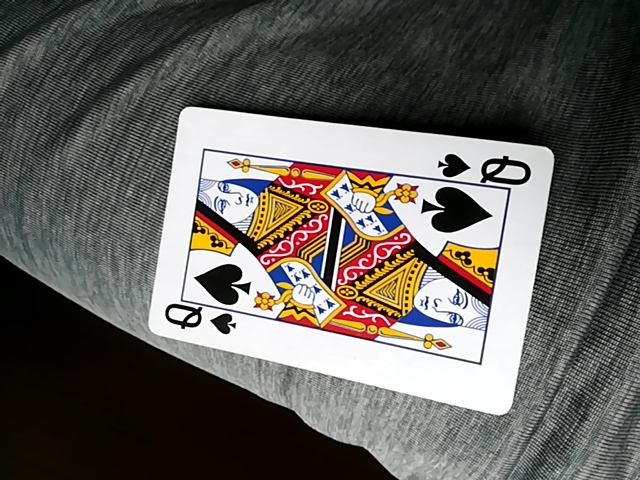ht q: (152, 104, 554, 415)
